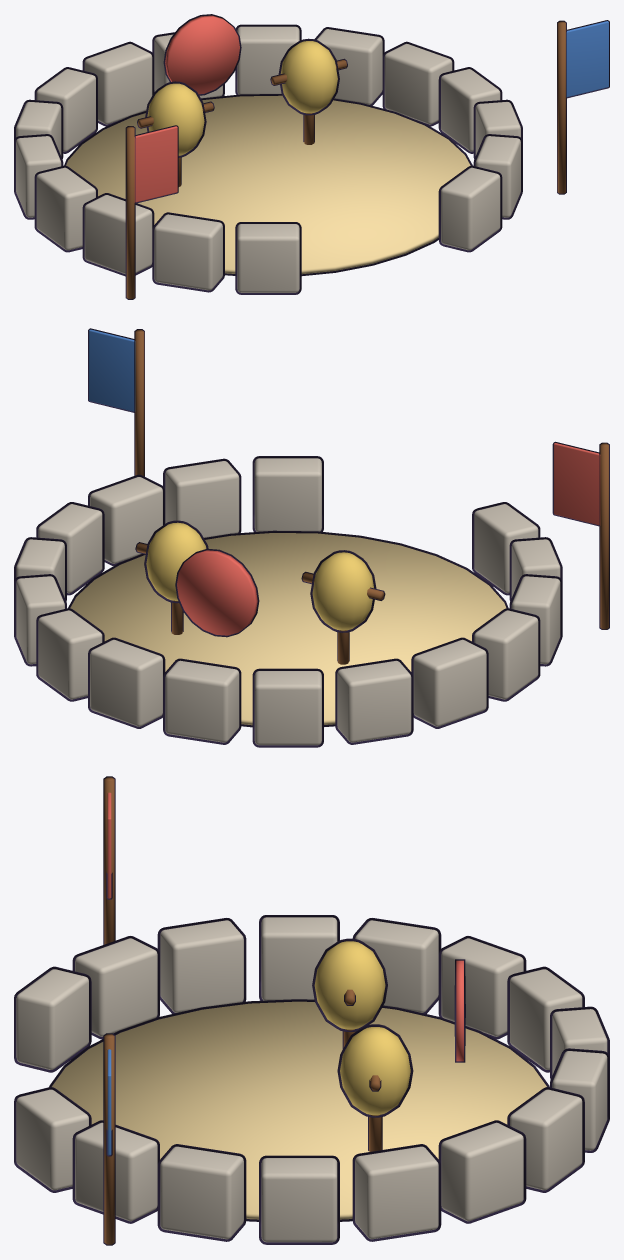
File: arena_2.glb
3 renders of one model, top to bottom at view 1: azimuth 30°, elevation 25°; view 2: azimuth 150°, elevation 25°; view 3: azimuth 270°, elevation 25°, orthographic. The views are drawn at different scales.
Parts seen in each view (by area): view 1: sand, box.011, box.012, target, box.013, box.010, box.001, box.005, box.009, straw.001, box.002, box.003 (+12 smaller); view 2: sand, box.005, box.007, box.008, box.004, target, box.006, box.013, box.014, box.015, box.009, box.003 (+12 smaller); view 3: sand, box.015, box.001, box.002, box.010, box, box.012, box.014, box.011, box.003, box.013, box.007 (+10 smaller).
Boxes of the visible parts, box(x1,y1,x2,y2) form: sand: box(64, 94, 472, 275); box.011: box(152, 212, 224, 292); box.012: box(235, 222, 301, 294); target: box(163, 14, 241, 95); box.013: box(438, 165, 502, 252); box.010: box(82, 193, 154, 276); box.001: box(382, 41, 454, 126); box.005: box(82, 41, 154, 126); box.009: box(34, 165, 97, 252); straw.001: box(278, 38, 339, 115); box.002: box(314, 27, 384, 105); box.003: box(235, 24, 301, 94); sand: box(68, 530, 508, 727); box.005: box(163, 658, 241, 744); box.007: box(335, 658, 413, 744); box.008: box(411, 637, 488, 728); box.004: box(88, 637, 165, 728); target: box(175, 548, 259, 637); box.006: box(252, 668, 323, 747); box.013: box(252, 456, 323, 531); box.014: box(163, 458, 241, 537); box.015: box(88, 474, 165, 565); box.009: box(472, 608, 540, 701); box.003: box(36, 608, 104, 701); sand: box(49, 999, 549, 1221); box.015: box(157, 1144, 246, 1241); box.001: box(352, 1144, 441, 1241); box.002: box(438, 1120, 526, 1223); box.010: box(157, 918, 246, 1013); box: box(259, 1155, 339, 1244); box.012: box(14, 966, 91, 1072); box.014: box(72, 1120, 159, 1223); box.011: box(72, 936, 159, 1039); box.003: box(507, 1087, 584, 1192); box.013: box(14, 1087, 91, 1192); box.007: box(438, 936, 526, 1039).
Size of the model in its own units: 5.37 by 1.83 by 4.71.
